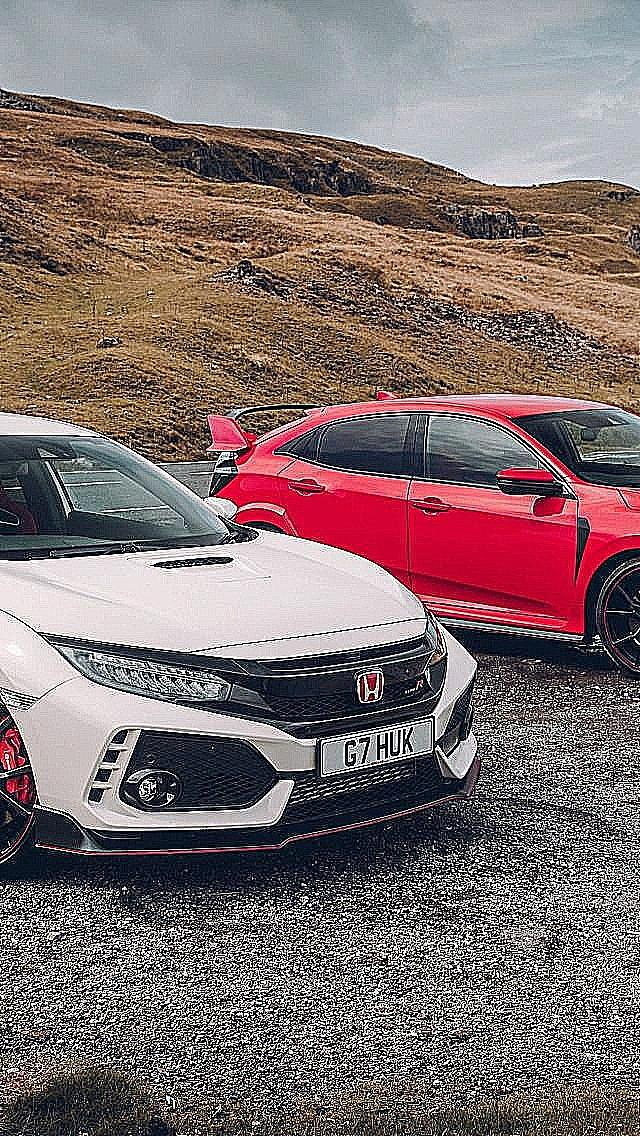Car hood: (0, 538, 433, 664)
Driver-s door - -F-R-: (411, 394, 580, 622)
Fender - -R-R-: (230, 445, 298, 537)
Front bumper: (13, 704, 533, 867)
Headlight - -L-: (410, 599, 456, 671)
Headlight - -R-: (33, 628, 238, 710)
Passenger-s door - -R-R-: (275, 393, 411, 589)
Rear light - -R-: (204, 439, 252, 501)
Side bumper - -R-: (419, 592, 608, 649)
Side mirror - -L-: (196, 490, 250, 527)
Side mirror - -R-: (485, 460, 575, 502)
